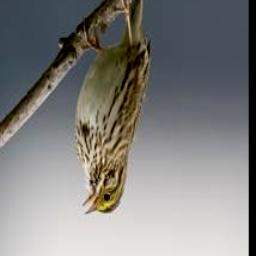Sparrow: (77, 0, 153, 221)
